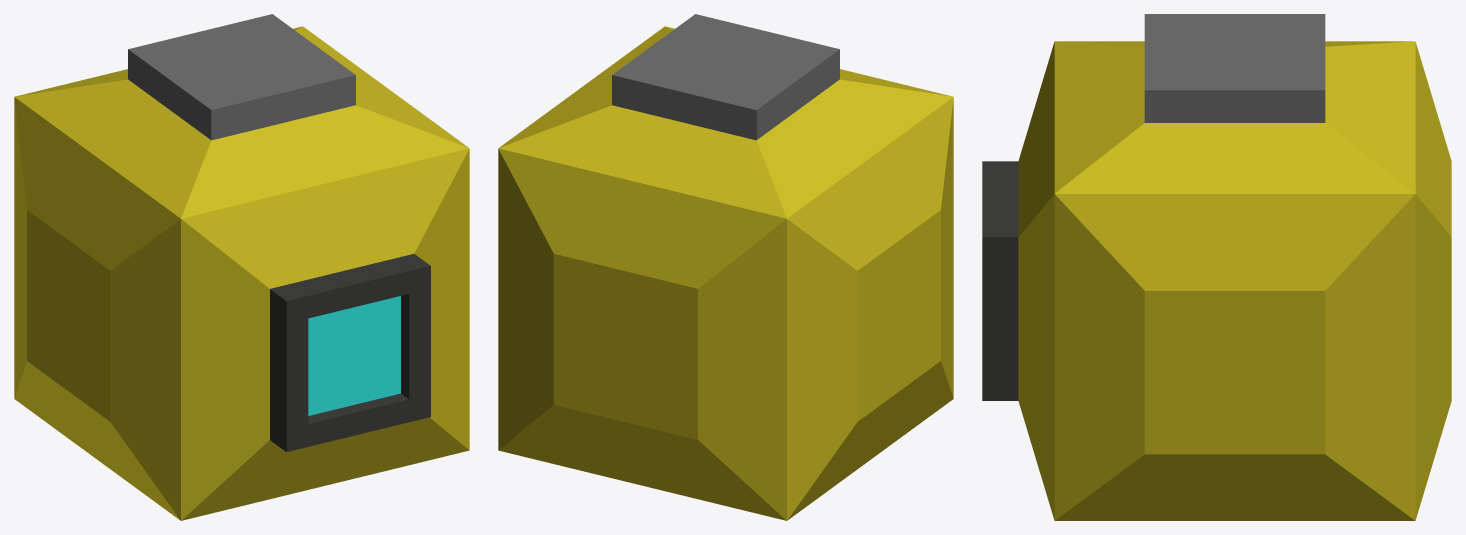
The model's file is photon_cannon.gltf.
The picture shows the model from 3 angles, left to right: view 1: azimuth 30°, elevation 25°; view 2: azimuth 150°, elevation 25°; view 3: azimuth 270°, elevation 25°; orthographic projection. The views are drawn at different scales.
Parts seen in each view (by area): view 1: emitter; view 2: emitter; view 3: emitter.
Part boxes in pixels (bbox=[...]): emitter: bbox=[14, 14, 469, 520]; emitter: bbox=[498, 14, 953, 520]; emitter: bbox=[982, 14, 1451, 520].
Bounding box in the file's own units: 0.15 × 0.1625 × 0.1625.
Materials: 1 (1 with a texture image).
